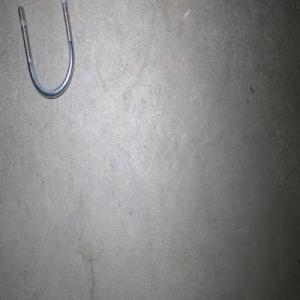ClampPart: (17, 0, 75, 99)
